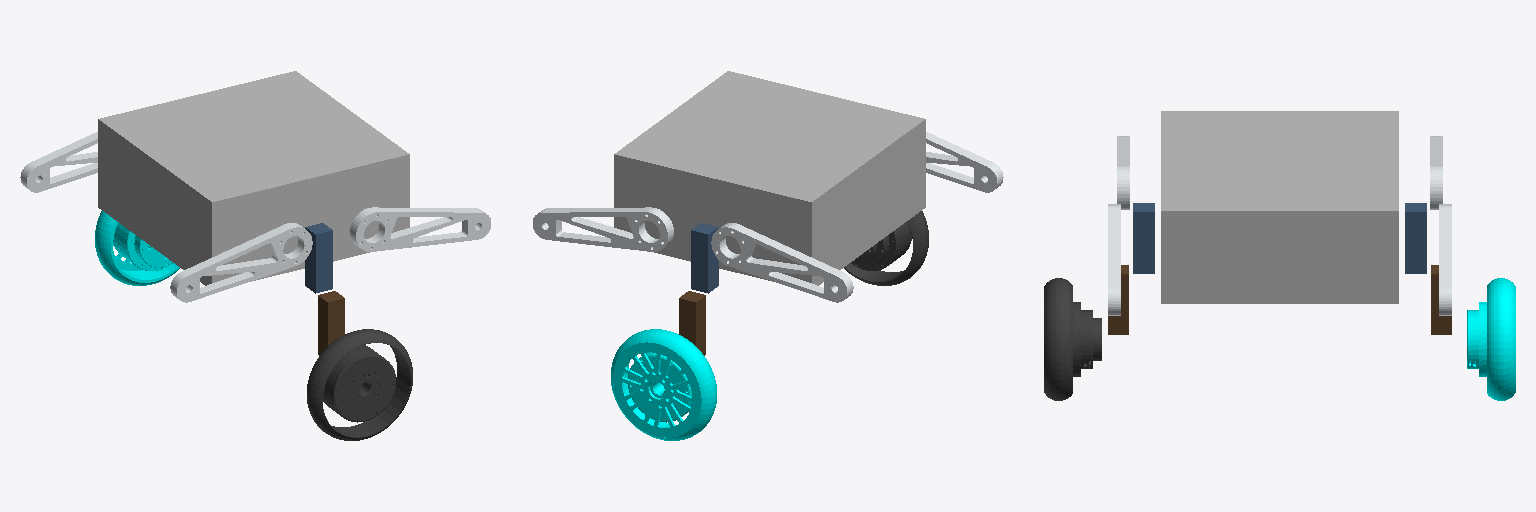
robot.urdf — hector_gazebo:
<?xml version="1.0" encoding="utf-8"?>
<robot name="hector_gazebo">
	<mujoco>
		<compiler meshdir="../meshes/" balanceinertia="true" discardvisual="false" />
	</mujoco>
	<link name="base_link">
		<inertial>
			<origin xyz="-0.00044958 -1.247E-05 -0.0266506" rpy="0 0 0" />
			<mass value="6.23175715" />
			<inertia ixx="0.13614361" ixy="-0.00014781" ixz="-0.00043513" iyy="0.06800572" iyz="-0.00028023" izz="0.18109383" />
		</inertial>
		<visual>
			<origin xyz="0 0 0" rpy="0 0 0" />
			<geometry>
				<box size="0.28 0.28 0.12" />
				<!-- <mesh filename="../meshes/base_link.STL" /> -->
			</geometry>
			<material name="">
				<color rgba="0.75294 0.75294 0.75294 1" />
			</material>
		</visual>
		<collision>
			<!-- <origin xyz="0 0 0" rpy="0 0 0" />
			<geometry>
				<mesh filename="../meshes/base_link.STL" />
			</geometry> -->
			<origin xyz="0 0 0" rpy="0 0 0" />
			<geometry>
				<box size="0.28 0.28 0.12" />
			</geometry>

		</collision>
	</link>

	<link name="l_mt_link">
		<inertial>
			<origin xyz="0 0 0" rpy="0 0 0" />
			<mass value="0.0001" />
			<inertia ixx="1.0E-10" ixy="1.0E-10" ixz="1.0E-10" iyy="1.0E-10" iyz="1.0E-10" izz="1.0E-10" />
		</inertial>
		<visual>
			<origin xyz="0 0 -0.04" rpy="0 0 0" />
			<geometry>
				<box size="0.025 0.025 0.08" />
				<!-- <mesh filename="../meshes/l_f_mt_link.STL" /> -->
			</geometry>
			<material name="">
				<color rgba="0.3 0.4 0.5 1" />
			</material>
		</visual>
		<collision>
			<origin xyz="0 0 -0.04" rpy="0 0 0" />
			<geometry>
				<box size="0.025 0.025 0.08" />
				<!-- <box size="0.03 0.03 0.03" /> -->
			</geometry>
		</collision>
	</link>
	<joint name="l_mt_joint" type="revolute">
		<origin xyz="0.0 0.16 0" rpy="0 0 0" />
		<parent link="base_link" />
		<child link="l_mt_link" />
		<axis xyz="0 1 0" />
		<limit lower="-0.8" upper="0.8" effort="21" velocity="21" />
	</joint>

	<link name="l_p_link">
		<inertial>
			<origin xyz="0 0 0" rpy="0 0 0" />
			<mass value="0.0001" />
			<inertia ixx="1.0E-10" ixy="1.0E-10" ixz="1.0E-10" iyy="1.0E-10" iyz="1.0E-10" izz="1.0E-10" />
		</inertial>
		<visual>
			<origin xyz="0 0.03 -0.04" rpy="0 0 0" />
			<geometry>
				<box size="0.025 0.025 0.08" />
				<!-- <mesh filename="../meshes/l_f_mt_link.STL" /> -->
			</geometry>
			<material name="">
				<color rgba="0.4 0.3 0.2 1" />
			</material>
		</visual>
		<collision>
			<origin xyz="0 0.03 -0.04" rpy="0 0 0" />
			<geometry>
				<box size="0.025 0.025 0.08" />
			</geometry>
		</collision>
	</link>
	<joint name="l_p_joint" type="prismatic">
		<origin xyz="0.0 0.0 -0.08" rpy="0 0 0" />
		<parent link="l_mt_link" />
		<child link="l_p_link" />
		<axis xyz="0 0 1" />
		<limit lower="-0.18" upper="0.08" effort="400" velocity="0.5" />
	</joint>

	<link name="l_wheel_link">
		<inertial>
			<origin xyz="6.7739E-06 -0.003652 4.26E-06" rpy="0 0 0" />
			<mass value="0.43397" />
			<inertia ixx="0.0005395" ixy="-3.2822E-08" ixz="1.2521E-08" iyy="0.0010009" iyz="2.8724E-09" izz="0.0005395" />
		</inertial>
		<visual>
			<origin xyz="0 0 0" rpy="0 0 0" />
			<!-- <origin xyz="0 -0.01 0" rpy="1.570796327948966 0 0" /> -->
			<geometry>
				<mesh filename="../meshes/l_wheel_link.STL" />
				<!-- <cylinder radius="0.0725" length="0.03" /> -->
			</geometry>
			<material name="">
				<color rgba="0 1 1 1" />
			</material>
		</visual>
		<collision>
			<!-- <origin xyz="0 0 0" rpy="0 0 0" /> -->
			<origin xyz="0 -0.01 0" rpy="1.570796327948966 0 0" />
			<geometry>
				<!-- <mesh filename="../meshes/l_wheel_link.STL" /> -->
				<cylinder radius="0.0725" length="0.03" />
			</geometry>
		</collision>
	</link>
	<joint name="l_wheel_joint" type="revolute">
		<origin xyz="0 0.1 -0.091525" rpy="0 0 0" />
		<parent link="l_p_link" />
		<child link="l_wheel_link" />
		<axis xyz="0 1 0" />
		<!-- <limit effort="21" velocity="210" /> -->
		<limit lower="-1e5" upper="1e5" effort="10" velocity="30" />
	</joint>

	
	
	<link name="r_mt_link">
		<inertial>
			<origin xyz="0 0 0" rpy="0 0 0" />
			<mass value="0.0001" />
			<inertia ixx="1.0E-10" ixy="1.0E-10" ixz="1.0E-10" iyy="1.0E-10" iyz="1.0E-10" izz="1.0E-10" />
		</inertial>
		<visual>
			<origin xyz="0 0 -0.04" rpy="0 0 0" />
			<geometry>
				<box size="0.025 0.025 0.08" />
				<!-- <mesh filename="../meshes/l_f_mt_link.STL" /> -->
			</geometry>
			<material name="">
				<color rgba="0.3 0.4 0.5 1" />
			</material>
		</visual>
		<collision>
			<origin xyz="0 0 -0.04" rpy="0 0 0" />
			<geometry>
				<box size="0.025 0.025 0.08" />
				<!-- <box size="0.03 0.03 0.03" /> -->
			</geometry>
		</collision>
	</link>
	<joint name="r_mt_joint" type="revolute">
		<origin xyz="0.0 -0.16 0" rpy="0 0 0" />
		<parent link="base_link" />
		<child link="r_mt_link" />
		<axis xyz="0 1 0" />
		<limit lower="-0.8" upper="0.8" effort="21" velocity="21" />
	</joint>

	<link name="r_p_link">
		<inertial>
			<origin xyz="0 0 0" rpy="0 0 0" />
			<mass value="0.0001" />
			<inertia ixx="1.0E-10" ixy="1.0E-10" ixz="1.0E-10" iyy="1.0E-10" iyz="1.0E-10" izz="1.0E-10" />
		</inertial>
		<visual>
			<origin xyz="0 -0.03 -0.04" rpy="0 0 0" />
			<geometry>
				<box size="0.025 0.025 0.08" />
				<!-- <mesh filename="../meshes/l_f_mt_link.STL" /> -->
			</geometry>
			<material name="">
				<color rgba="0.4 0.3 0.2 1" />
			</material>
		</visual>
		<collision>
			<origin xyz="0 -0.03 -0.04" rpy="0 0 0" />
			<geometry>
				<box size="0.025 0.025 0.08" />
			</geometry>
		</collision>
	</link>
	<joint name="r_p_joint" type="prismatic">
		<origin xyz="0.0 0.0 -0.08" rpy="0 0 0" />
		<parent link="r_mt_link" />
		<child link="r_p_link" />
		<axis xyz="0 0 1" />
		<limit lower="-0.18" upper="0.08" effort="400" velocity="0.5" />
	</joint>

	<link name="r_wheel_link">
		<inertial>
			<origin xyz="-2.3366E-06 0.0089279 -8.278E-06" rpy="0 0 0" />
			<mass value="0.40373" />
			<inertia ixx="0.00044034" ixy="1.2024E-08" ixz="8.7688E-09" iyy="0.00081663" iyz="-3.0675E-08" izz="0.00044036" />
		</inertial>
		<visual>
			<origin xyz="0 0 0" rpy="0 0 0" />
			<geometry>
				<mesh filename="../meshes/r_wheel_link.STL" />
				<!-- <cylinder radius="0.0725" length="0.03" /> -->
			</geometry>
			<material name="">
				<color rgba="0.29804 0.29804 0.29804 1" />
			</material>
		</visual>
		<collision>
			<origin xyz="0 0.01 0" rpy="1.570796327948966 0 0" />
			<!-- <origin xyz="0 0 0" rpy="0 0 0" /> -->
			<geometry>
				<!-- <mesh filename="../meshes/r_wheel_link.STL" /> -->
				<cylinder radius="0.0725" length="0.03" />
			</geometry>
		</collision>
	</link>
	<joint name="r_wheel_joint" type="revolute">
		<origin xyz="0 -0.1 -0.091525" rpy="0 0 0" />
		<parent link="r_p_link" />
		<child link="r_wheel_link" />
		<axis xyz="0 1 0" />
		<limit lower="-1e5" upper="1e5" effort="10" velocity="30" />
	</joint>




	<link name="l_f_mt_link">
		<inertial>
			<origin xyz="0.065203 -0.0075 -0.012318" rpy="0 0 0" />
			<mass value="0.1952" />
			<inertia ixx="6.5309E-05" ixy="-1.1987E-18" ixz="0.00010178" iyy="0.00071046" iyz="2.2543E-19" izz="0.00065247" />
		</inertial>
		<visual>
			<origin xyz="0 0 0" rpy="0 0 0" />
			<geometry>
				<mesh filename="../meshes/l_f_mt_link.STL" />
			</geometry>
			<material name="">
				<color rgba="0.89804 0.91765 0.92941 1" />
			</material>
		</visual>
		<collision>
			<origin xyz="0 0 0" rpy="0 0 0" />
			<geometry>
				<mesh filename="../meshes/l_f_mt_link.STL" />
			</geometry>
			<!-- <origin xyz="0 0 0" rpy="0 0 0" />
			<geometry>
				<box size="0.01 0.01 0.01" />
			</geometry> -->
		</collision>
	</link>
	<joint name="l_f_mt_joint" type="fixed">
		<origin xyz="0.054 0.2025 0" rpy="0 0 0" />
		<parent link="base_link" />
		<child link="l_f_mt_link" />
		<axis xyz="0 1 0" />
		<!-- <limit lower="-0.5" upper="1.3" effort="21" velocity="21" /> -->
	</joint>
	
	<link name="l_b_mt_link">
		<inertial>
			<origin xyz="-0.065581 -0.0185 -0.010115" rpy="0 0 0" />
			<mass value="0.1952" />
			<inertia ixx="5.9126E-05" ixy="2.3573E-19" ixz="-8.179E-05" iyy="0.00071046" iyz="9.8375E-20" izz="0.00065865" />
		</inertial>
		<visual>
			<origin xyz="0 0 0" rpy="0 0 0" />
			<geometry>
				<mesh filename="../meshes/l_b_mt_link.STL" />
			</geometry>
			<material name="">
				<color rgba="0.89804 0.91765 0.92941 1" />
			</material>
		</visual>
		<collision>
			<!-- <origin xyz="0.0 0.0 0" rpy="0 0 0" />
			<geometry>
				<box size="0.01 0.01 0.01" />
			</geometry> -->
			<origin xyz="0 0 0" rpy="0 0 0" />
			<geometry>
				<mesh filename="../meshes/l_b_mt_link.STL" />
			</geometry>
		</collision>
	</link>
	<joint name="l_b_mt_joint" type="fixed">
		<origin xyz="-0.054 0.2025 0" rpy="0 0 0" />
		<parent link="base_link" />
		<child link="l_b_mt_link" />
		<axis xyz="0 1 0" />
		<limit lower="-1.3" upper="0.5" effort="21" velocity="21" />
	</joint>

	<link name="r_f_mt_link">
		<inertial>
			<origin xyz="0.065203 0.0075 -0.012318" rpy="0 0 0" />
			<mass value="0.1952" />
			<inertia ixx="6.5309E-05" ixy="1.1742E-18" ixz="0.00010178" iyy="0.00071046" iyz="-2.1495E-19" izz="0.00065247" />
		</inertial>
		<visual>
			<origin xyz="0 0 0" rpy="0 0 0" />
			<geometry>
				<mesh filename="../meshes/r_f_mt_link.STL" />
			</geometry>
			<material name="">
				<color rgba="0.89804 0.91765 0.92941 1" />
			</material>
		</visual>
		<collision>
			<!-- <origin xyz="0.0 0.0 0" rpy="0 0 0" />
			<geometry>
				<box size="0.01 0.01 0.01" />
			</geometry> -->
			<origin xyz="0 0 0" rpy="0 0 0" />
			<geometry>
				<mesh filename="../meshes/r_f_mt_link.STL" />
			</geometry>
		</collision>
	</link>
	<joint name="r_f_mt_joint" type="fixed">
		<origin xyz="0.054 -0.2025 0" rpy="0 0 0" />
		<parent link="base_link" />
		<child link="r_f_mt_link" />
		<axis xyz="0 1 0" />
		<limit lower="-0.5" upper="1.3" effort="21" velocity="21" />
	</joint>

	<link name="r_b_mt_link">
		<inertial>
			<origin xyz="-0.065581 0.0185 -0.010115" rpy="0 0 0" />
			<mass value="0.1952" />
			<inertia ixx="5.9126E-05" ixy="-9.0948E-20" ixz="-8.179E-05" iyy="0.00071046" iyz="-8.6667E-20" izz="0.00065865" />
		</inertial>
		<visual>
			<origin xyz="0 0 0" rpy="0 0 0" />
			<geometry>
				<mesh filename="../meshes/r_b_mt_link.STL" />
			</geometry>
			<material name="">
				<color rgba="0.89804 0.91765 0.92941 1" />
			</material>
		</visual>
		<collision>
			<!-- <origin xyz="0.0 0.0 0" rpy="0 0 0" />
			<geometry>
				<box size="0.01 0.01 0.01" />
			</geometry> -->
			<origin xyz="0 0 0" rpy="0 0 0" />
			<geometry>
				<mesh filename="../meshes/r_b_mt_link.STL" />
			</geometry>
		</collision>
	</link>
	<joint name="r_b_mt_joint" type="fixed">
		<origin xyz="-0.054 -0.2025 0" rpy="0 0 0" />
		<parent link="base_link" />
		<child link="r_b_mt_link" />
		<axis xyz="0 1 0" />
		<limit lower="-1.3" upper="0.5" effort="21" velocity="21" />
	</joint>
	

	<joint name="imu_joint" type="fixed">
		<parent link="base_link"/>
		<child link="imu_link"/>
		<origin rpy="0 0 0" xyz="0 0 0"/>
	</joint>

	<link name="imu_link">
		<inertial>
			<mass value="0.001"/>
			<origin rpy="0 0 0" xyz="0 0 0"/>
			<inertia ixx="0.0001" ixy="0" ixz="0" iyy="0.0001" iyz="0" izz="0.0001"/>
		</inertial>
		<visual>
			<origin rpy="0 0 0" xyz="0 0 0"/>
			<geometry>
				<box size="0.001 0.001 0.001"/>
			</geometry>
			<material name="red"/>
		</visual>
		<collision>
			<origin rpy="0 0 0" xyz="0 0 0"/>
			<geometry>
				<box size=".001 .001 .001"/>
			</geometry>
		</collision>
	</link>
</robot>

--- Render facts (derived) ---
3 views of the same robot in one strip: view 1: azimuth 30°, elevation 25°; view 2: azimuth 150°, elevation 25°; view 3: azimuth 270°, elevation 25° (orthographic).
Robot: hector_gazebo — 12 links, 11 joints (4 revolute, 2 prismatic, 5 fixed); root link base_link; default pose: all joints at 0.
Links seen in each view (by area): view 1: base_link, r_wheel_link, r_b_mt_link, r_f_mt_link, l_wheel_link, l_b_mt_link, r_mt_link, r_p_link; view 2: base_link, l_wheel_link, l_b_mt_link, l_f_mt_link, r_wheel_link, r_b_mt_link, l_mt_link, l_p_link; view 3: base_link, r_wheel_link, l_wheel_link, l_mt_link, r_mt_link, l_f_mt_link, r_f_mt_link, l_b_mt_link, r_b_mt_link, l_p_link, r_p_link.
Boxes of the visible links, bbox=[...] form: base_link: bbox=[98, 71, 409, 285]; r_wheel_link: bbox=[307, 329, 412, 440]; r_b_mt_link: bbox=[170, 223, 312, 302]; r_f_mt_link: bbox=[350, 207, 490, 251]; l_wheel_link: bbox=[95, 211, 179, 285]; l_b_mt_link: bbox=[20, 132, 97, 192]; r_mt_link: bbox=[305, 223, 332, 293]; r_p_link: bbox=[318, 291, 344, 355]; base_link: bbox=[614, 71, 925, 285]; l_wheel_link: bbox=[611, 329, 716, 440]; l_b_mt_link: bbox=[711, 223, 853, 302]; l_f_mt_link: bbox=[533, 207, 673, 251]; r_wheel_link: bbox=[844, 211, 928, 285]; r_b_mt_link: bbox=[926, 132, 1003, 192]; l_mt_link: bbox=[691, 223, 718, 293]; l_p_link: bbox=[679, 291, 705, 355]; base_link: bbox=[1161, 111, 1398, 303]; r_wheel_link: bbox=[1044, 278, 1101, 400]; l_wheel_link: bbox=[1467, 278, 1515, 400]; l_mt_link: bbox=[1405, 203, 1426, 273]; r_mt_link: bbox=[1133, 203, 1154, 273]; l_f_mt_link: bbox=[1439, 204, 1451, 315]; r_f_mt_link: bbox=[1108, 204, 1120, 315]; l_b_mt_link: bbox=[1430, 136, 1442, 209]; r_b_mt_link: bbox=[1117, 136, 1129, 209]; l_p_link: bbox=[1431, 265, 1451, 334]; r_p_link: bbox=[1108, 265, 1128, 334].
Bounding box of the posed robot: 0.44 × 0.554 × 0.304 m (x, y, z).
Meshes: 6 distinct files referenced, 6 mesh visuals loaded (6 binary STL).
